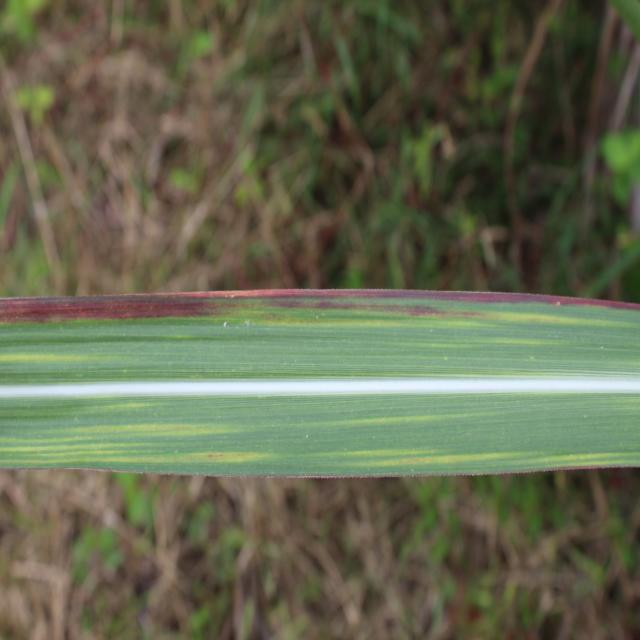Sugarcane: (0, 289, 640, 492)
